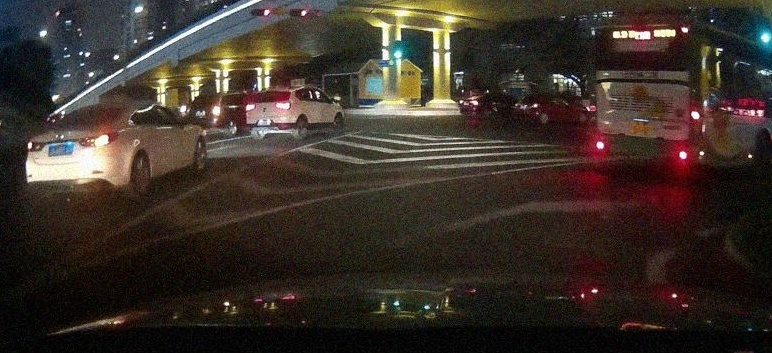L_light: (27, 140, 46, 152), (589, 93, 596, 123), (179, 105, 186, 112)
R_light: (79, 130, 119, 148), (691, 95, 701, 129), (276, 102, 291, 110), (212, 106, 221, 116)
T_light: (627, 66, 652, 71), (86, 107, 101, 111), (204, 95, 212, 96), (266, 92, 274, 93)
day-no: (246, 104, 255, 111)
night-no: (589, 23, 702, 182), (245, 89, 292, 140), (178, 92, 222, 138)
night-right: (25, 100, 131, 206)
